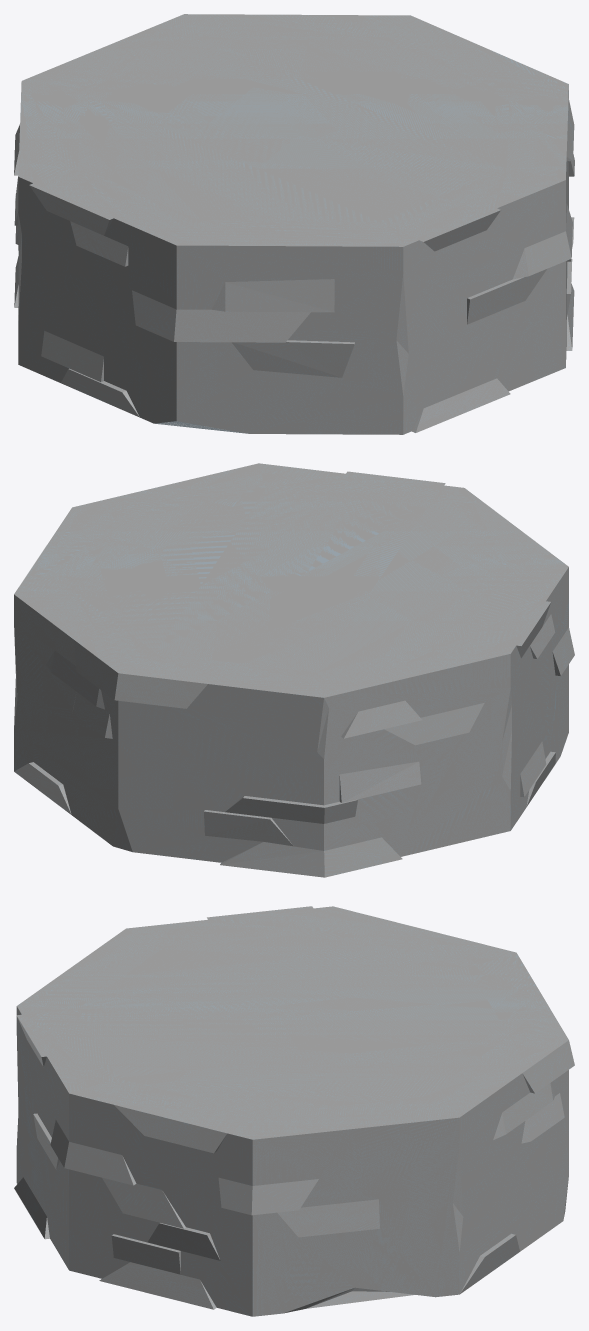
The model's file is Tower5.fbx.
3 views of the same model, one above another, from view 1: azimuth 30°, elevation 25°; view 2: azimuth 150°, elevation 25°; view 3: azimuth 270°, elevation 25° (orthographic). The views are drawn at different scales.
Parts seen in each view (by area): view 1: Group2; view 2: Group2; view 3: Group2.
Part boxes in pixels (x1,y1,x2,y2): Group2: (14,14,574,434); Group2: (14,463,574,877); Group2: (14,906,574,1316).
Size of the model in its own units: 2002 by 700 by 2010.
